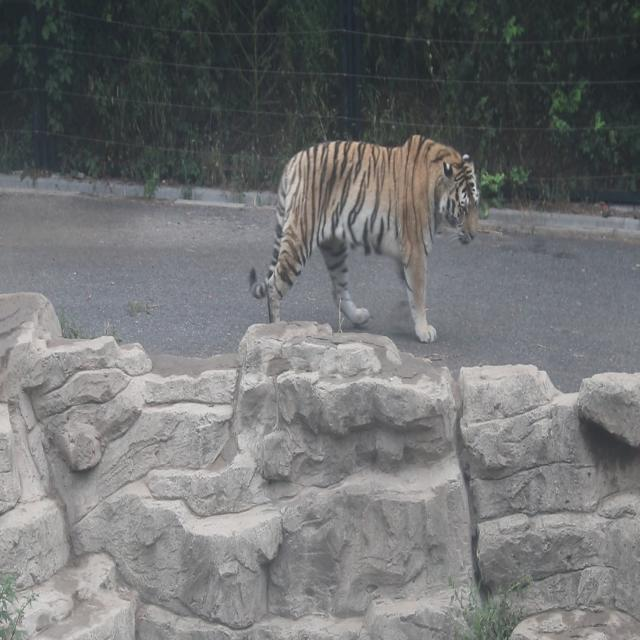Tiger: (237, 107, 493, 363)
